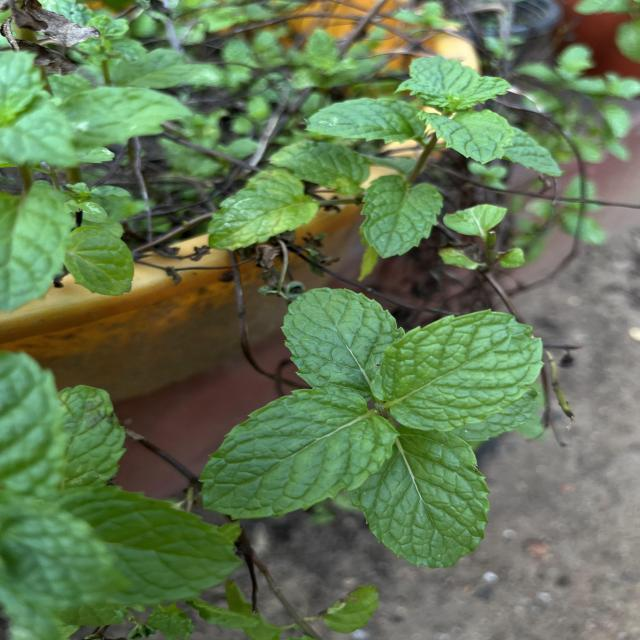Mentha spicata: (196, 385, 401, 521), (370, 307, 546, 433), (348, 430, 493, 570), (279, 285, 407, 389), (359, 173, 444, 260)
